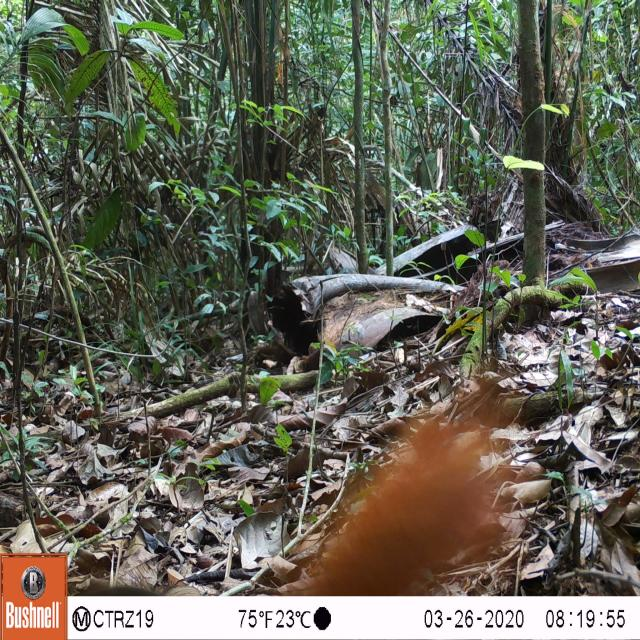Squirrel: (287, 384, 508, 596)
